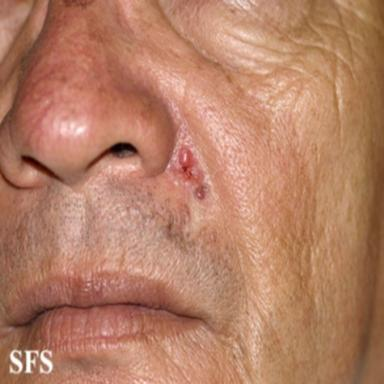basal-cell-carcinoma: (166, 126, 210, 201)
